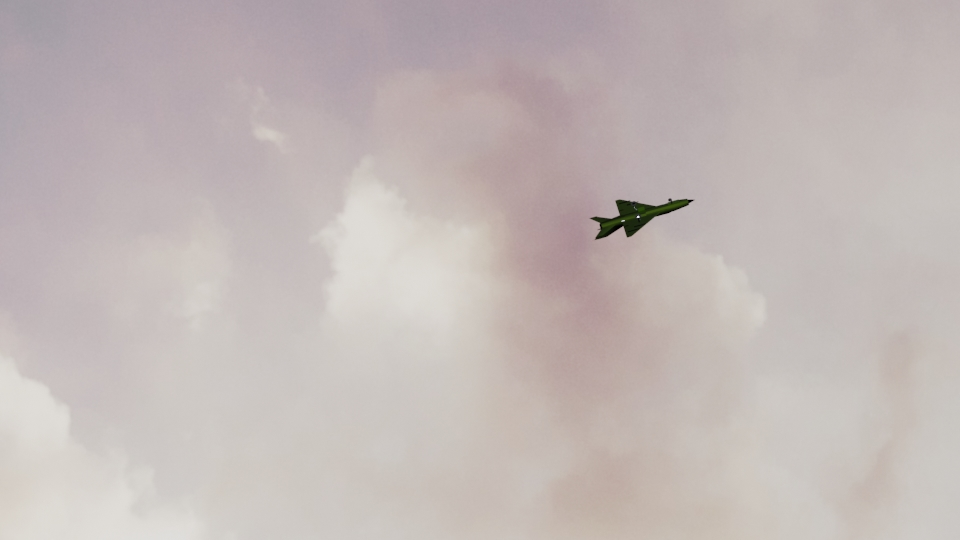plane: (589, 190, 691, 237)
